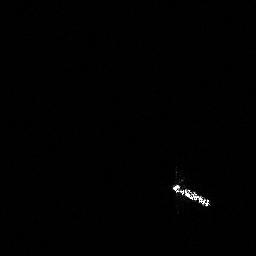ship: (168, 179, 215, 210)
